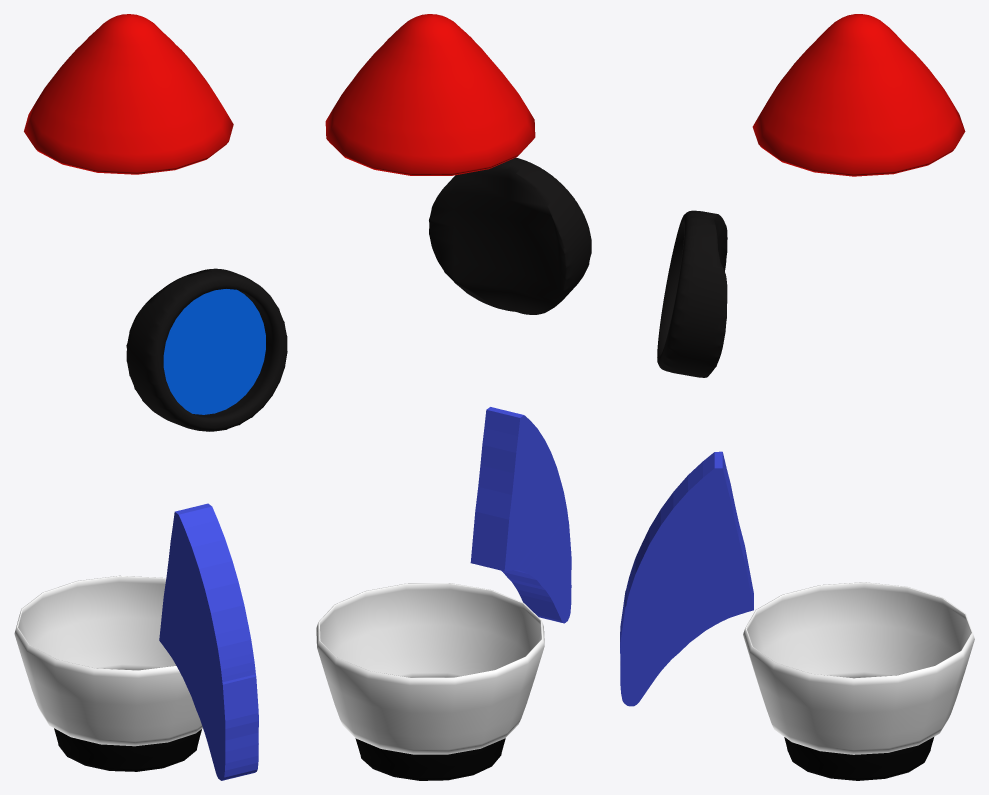
File: rocket_parts.fbx
3 renders of one model, left to right at view 1: azimuth 30°, elevation 25°; view 2: azimuth 150°, elevation 25°; view 3: azimuth 270°, elevation 25°, orthographic.
Parts seen in each view (by area): view 1: rocket_bottom, rocket_top, rocket_window2, rocket_fin4; view 2: rocket_bottom, rocket_top, rocket_window2, rocket_fin4; view 3: rocket_bottom, rocket_top, rocket_fin4, rocket_window2.
Boxes of the visible parts, <box> form: rocket_bottom: <box>14,575,202,771</box>; rocket_top: <box>24,14,233,174</box>; rocket_window2: <box>126,268,287,431</box>; rocket_fin4: <box>159,503,258,780</box>; rocket_bottom: <box>316,583,544,780</box>; rocket_top: <box>325,14,535,175</box>; rocket_window2: <box>429,157,591,314</box>; rocket_fin4: <box>470,407,571,623</box>; rocket_bottom: <box>743,582,974,780</box>; rocket_top: <box>752,14,965,176</box>; rocket_fin4: <box>620,451,753,706</box>; rocket_window2: <box>657,210,727,377</box>.
Size of the model in its own units: 149 by 521 by 229.
